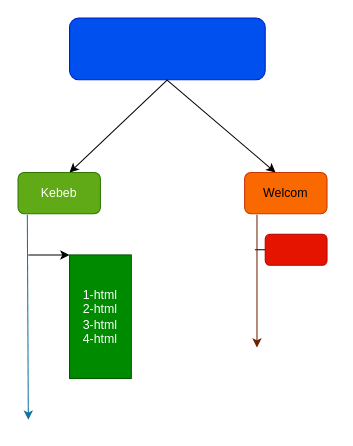
Image size: 353x446. Some labels were removed from this diagram. Here are the shapes that lost their labels. From the top down, the centre of each, then its label:
At pixel 166 48: "WELCOM PORT".
At pixel 295 249: "Index.html".
